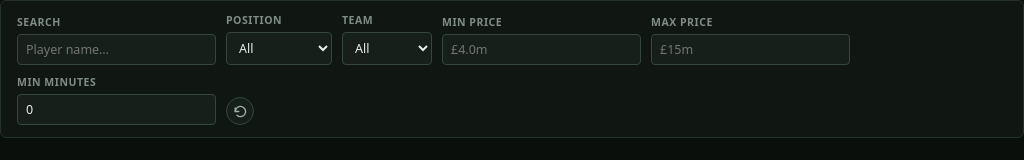
FiltersBar — Min minutes can be typed › lets the box be blank while editing (0 applied), then shows the real value when you leave it
The width and height of the screenshot is (1024, 160).
Clear the number field with id "t-min-minutes": (116, 110) [17,94,216,125]
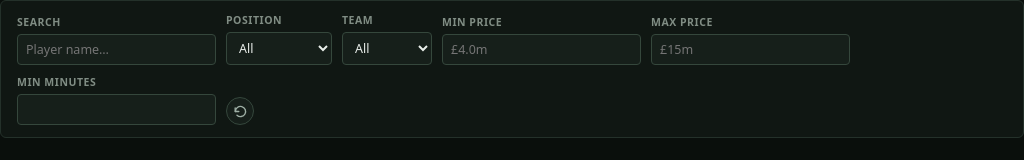
Leave the number field with id "t-min-minutes", box [17,94,216,125]
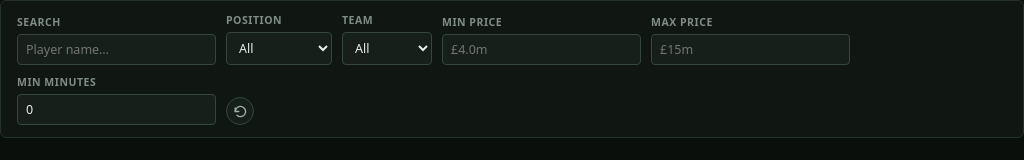
Check: the number field with id "t-min-minutes" holds "0", box [17,94,216,125]
